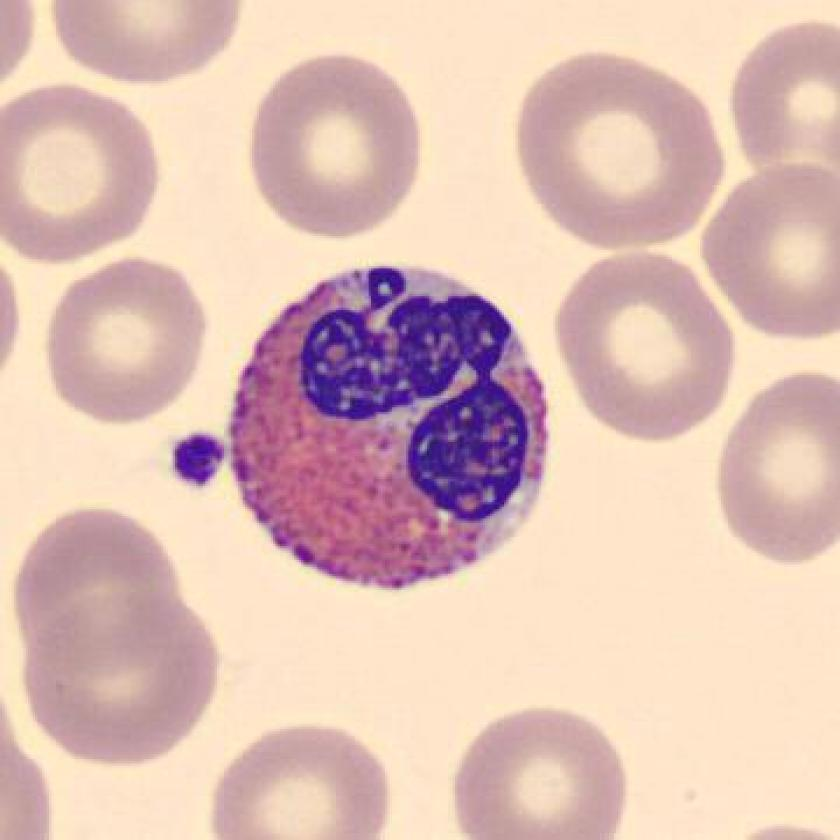eosinophil: (221, 251, 564, 603)
